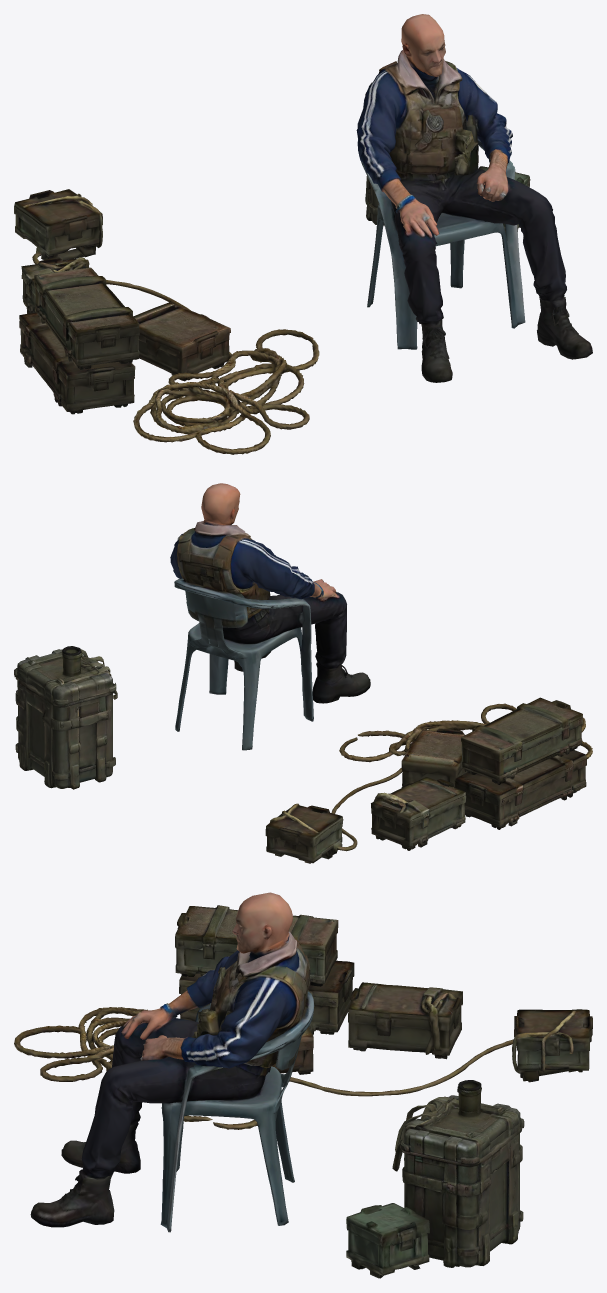
The model's file is ref.glb.
3 renders of one model, top to bottom at view 1: azimuth 30°, elevation 25°; view 2: azimuth 150°, elevation 25°; view 3: azimuth 270°, elevation 25°, orthographic. The views are drawn at different scales.
Visible parts, largest first — view 1: tripo_node_7c4a4459-4106-493e-9a39-fd1608cb3ee2; view 2: tripo_node_7c4a4459-4106-493e-9a39-fd1608cb3ee2; view 3: tripo_node_7c4a4459-4106-493e-9a39-fd1608cb3ee2.
Boxes of the visible parts, x1,y1,x2,y2 form: tripo_node_7c4a4459-4106-493e-9a39-fd1608cb3ee2: (14, 14, 592, 454); tripo_node_7c4a4459-4106-493e-9a39-fd1608cb3ee2: (14, 483, 592, 863); tripo_node_7c4a4459-4106-493e-9a39-fd1608cb3ee2: (14, 892, 592, 1278).
Size of the model in its own units: 0.9801 by 0.4874 by 0.8314.
1 material, 1 textured.
